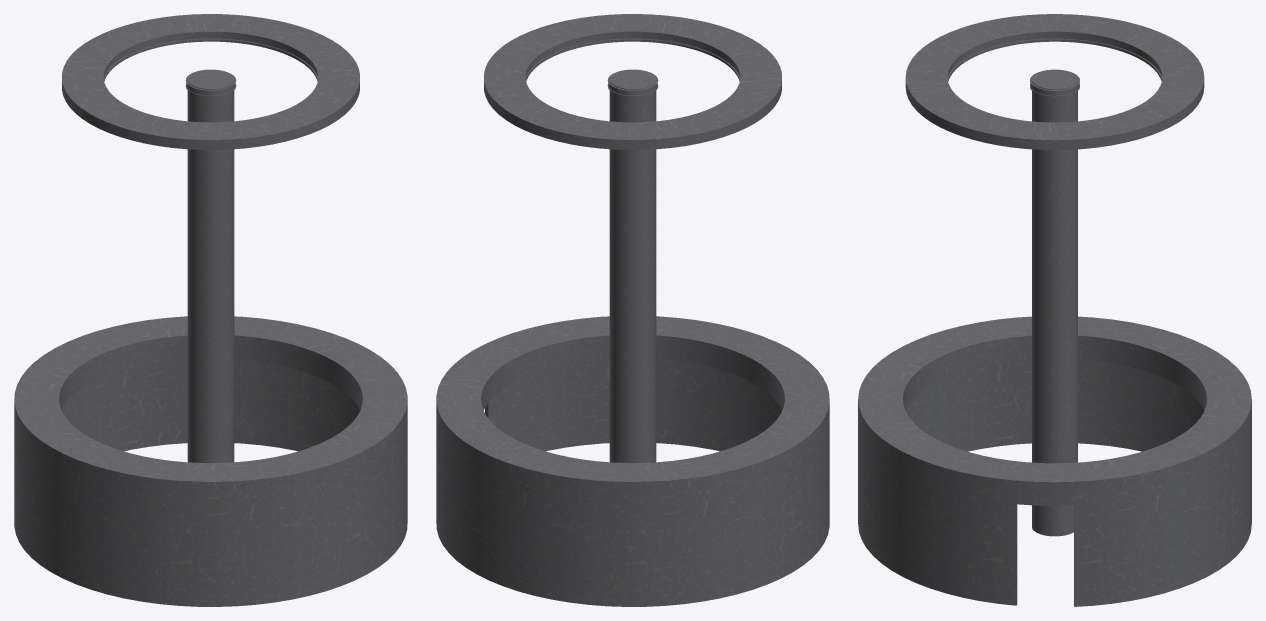
File: field_winter_center_floor.fbx
3 views of the same model, side by side, from view 1: azimuth 30°, elevation 25°; view 2: azimuth 150°, elevation 25°; view 3: azimuth 270°, elevation 25° (orthographic).
Visible parts, largest first — view 1: field_winter_center_dome, field_winter_center_floor, field_winter_centerpillar; view 2: field_winter_center_dome, field_winter_center_floor, field_winter_centerpillar; view 3: field_winter_center_dome, field_winter_center_floor, field_winter_centerpillar.
Part boxes in pixels (x1=…): field_winter_center_dome: x1=14, y1=316, x2=407, y2=606; field_winter_center_floor: x1=62, y1=14, x2=359, y2=149; field_winter_centerpillar: x1=185, y1=69, x2=236, y2=462; field_winter_center_dome: x1=436, y1=316, x2=829, y2=606; field_winter_center_floor: x1=484, y1=14, x2=781, y2=149; field_winter_centerpillar: x1=607, y1=69, x2=658, y2=462; field_winter_center_dome: x1=858, y1=316, x2=1251, y2=606; field_winter_center_floor: x1=905, y1=14, x2=1204, y2=150; field_winter_centerpillar: x1=1030, y1=69, x2=1079, y2=536.
Bounding box in the file's own units: 1613 × 2032 × 1613.
1 material, 1 textured.
